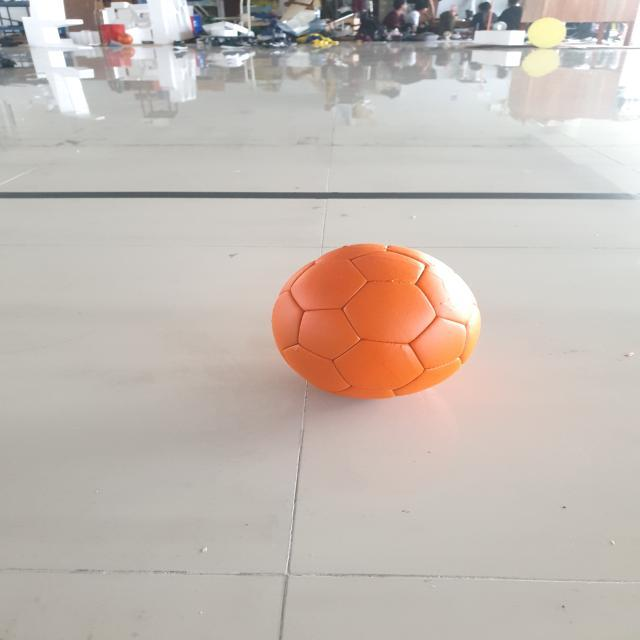bola: (262, 233, 490, 404)
